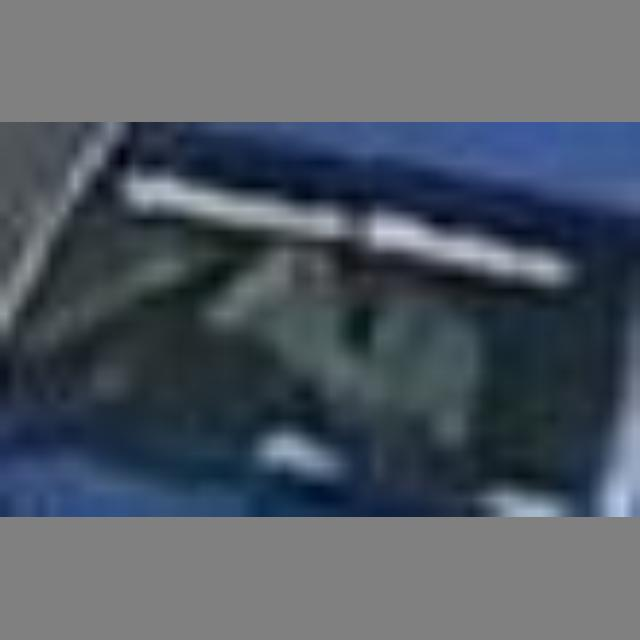tidak-pakai: (175, 215, 500, 448)
